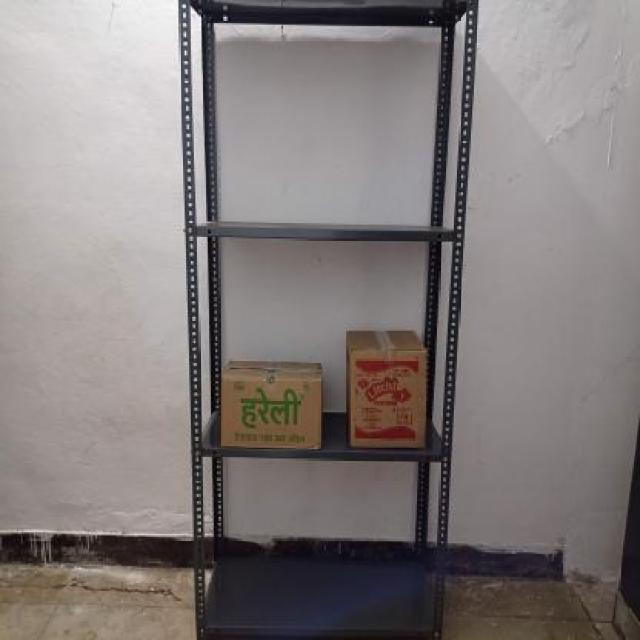box: (216, 372, 321, 452), (348, 347, 426, 453)
